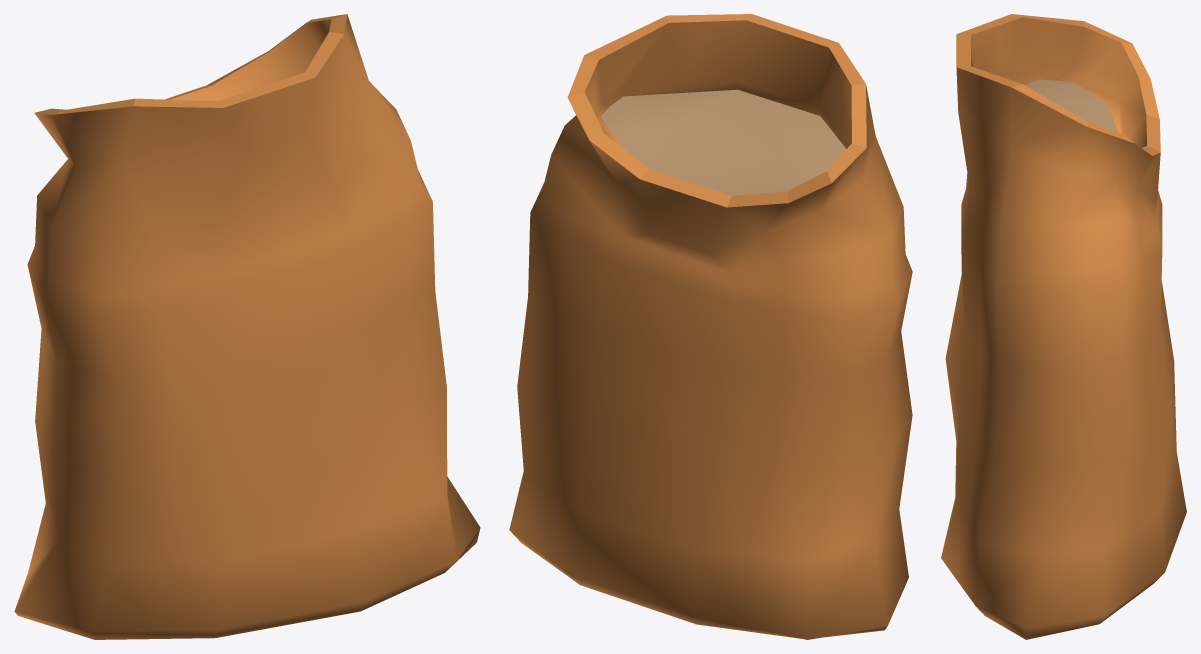
File: GrainSack_Open.fbx
3 renders of one model, left to right at view 1: azimuth 30°, elevation 25°; view 2: azimuth 150°, elevation 25°; view 3: azimuth 270°, elevation 25°, orthographic. The views are drawn at different scales.
Visible parts, largest first — view 1: GrainSack_Open; view 2: GrainSack_Open; view 3: GrainSack_Open.
Part boxes in pixels (x1,y1,x2,y2): GrainSack_Open: [14, 14, 480, 639]; GrainSack_Open: [509, 14, 912, 639]; GrainSack_Open: [941, 14, 1186, 639].
Bounding box in the file's own units: 20.05 × 24.69 × 11.21.
